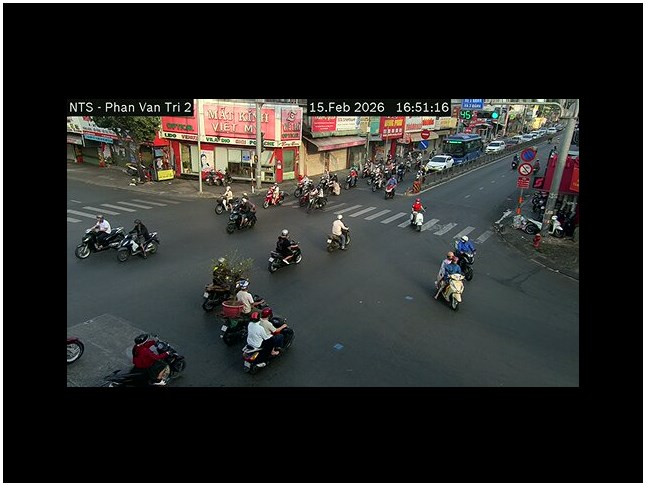car: (425, 154, 454, 172)
motorbike: (131, 332, 186, 384), (242, 322, 293, 373), (116, 223, 160, 263), (433, 269, 467, 311), (326, 216, 351, 252), (383, 174, 398, 198)
